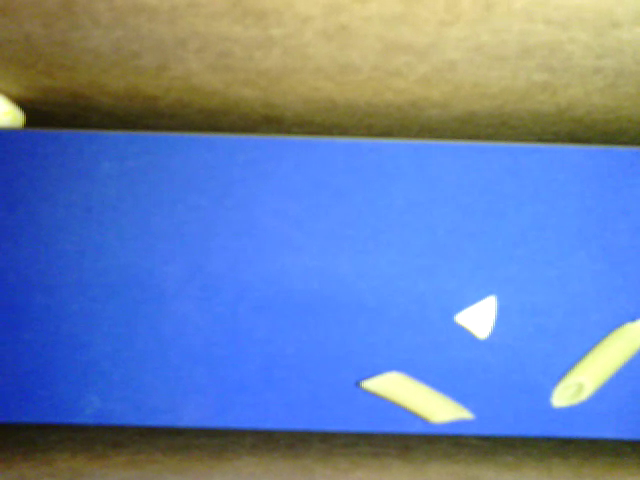penne: (549, 318, 639, 409), (358, 369, 474, 421)
